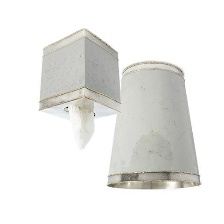tissue: (61, 101, 101, 157)
